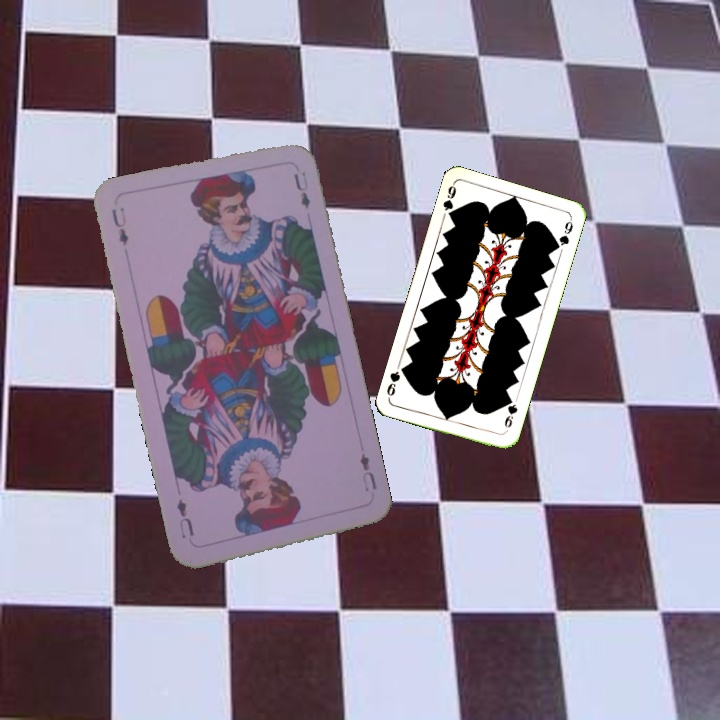EU: (107, 203, 131, 248), (356, 449, 380, 493)
G9: (439, 180, 459, 222), (500, 394, 520, 431)
